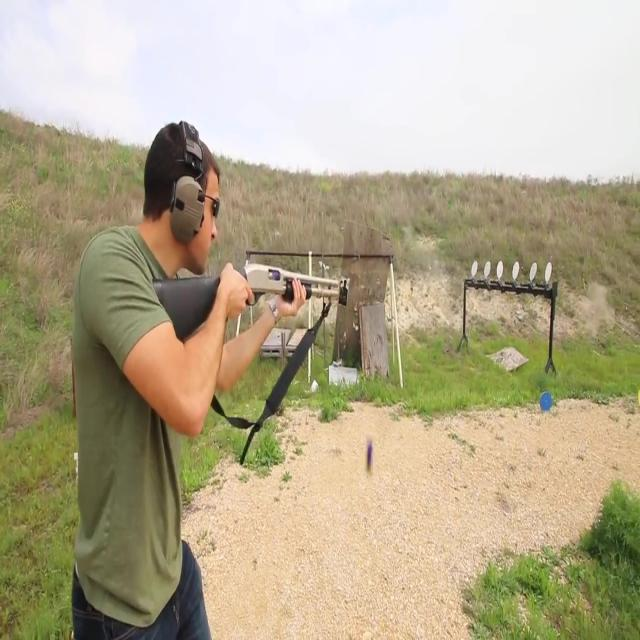Weapon: (142, 259, 350, 378)
